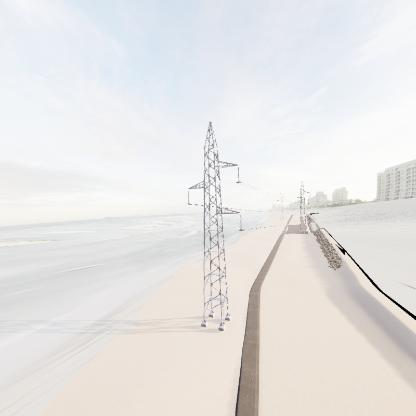tower: (180, 121, 249, 332)
